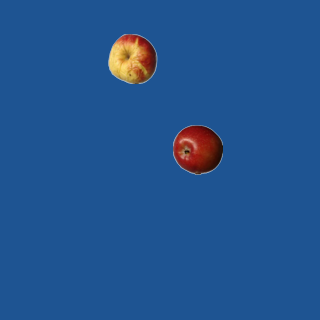Apple Braeburn: (172, 124, 222, 174)
Apple Red Yellow 1: (107, 33, 157, 83)
